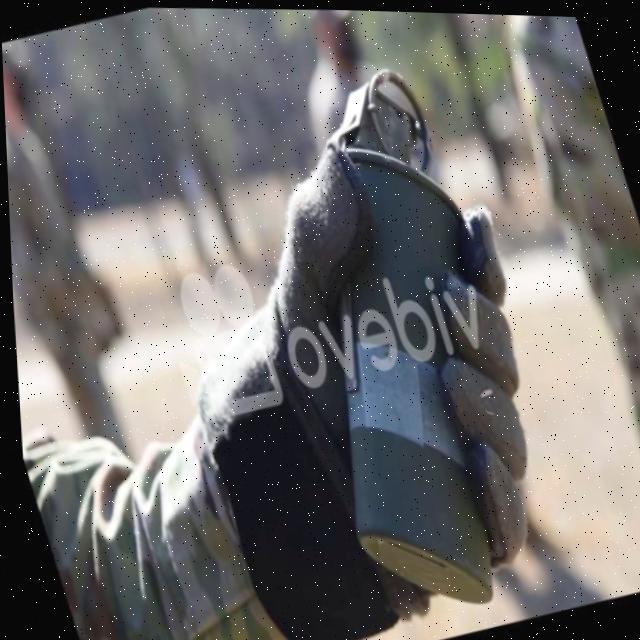grenade: (213, 49, 589, 634)
